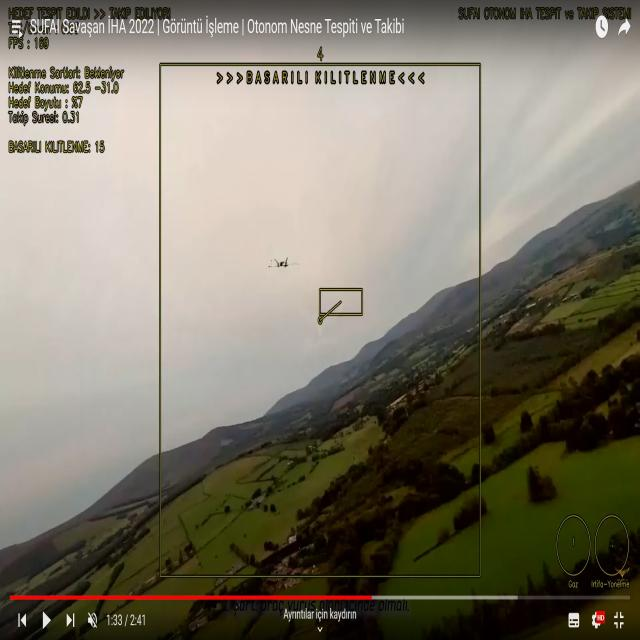iha: (267, 254, 300, 270)
